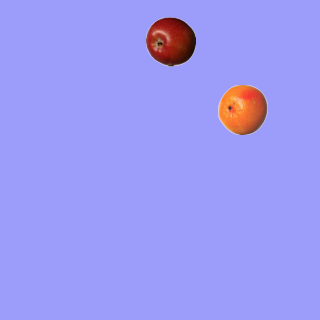Apple Braeburn: (145, 16, 195, 66)
Grapefruit Pink: (217, 84, 267, 134)
